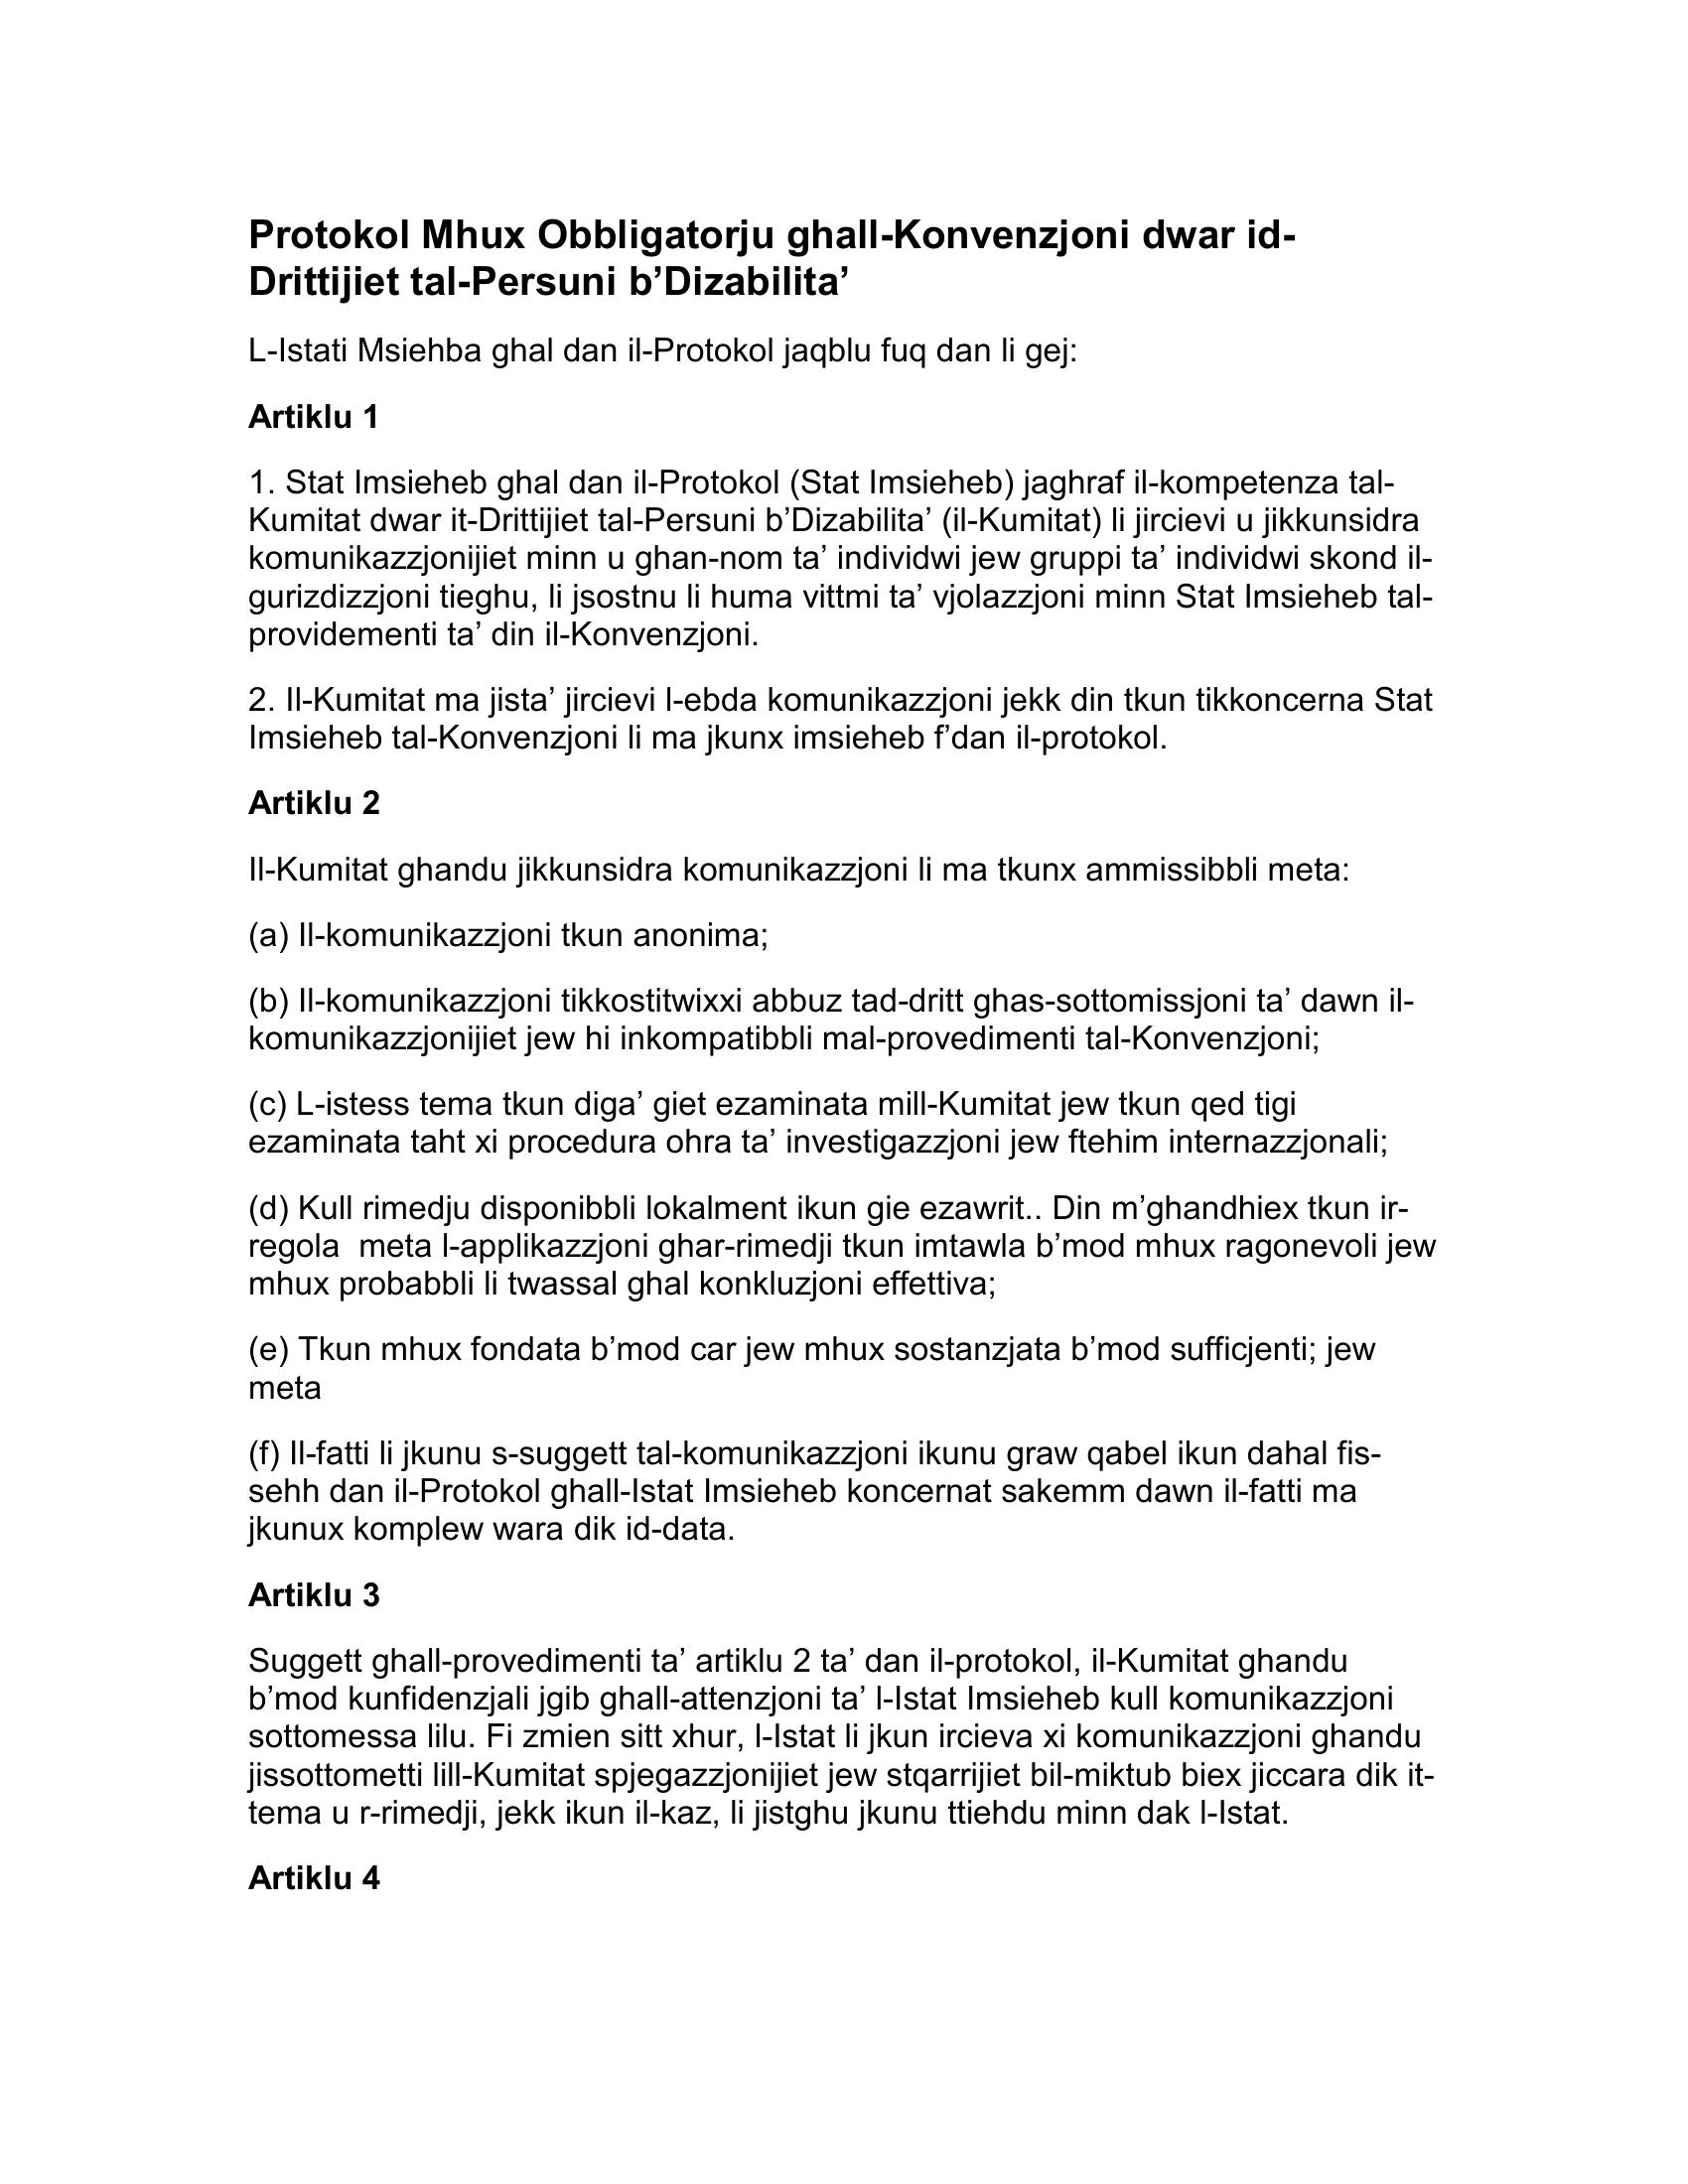text: (227, 193, 1475, 1929)
